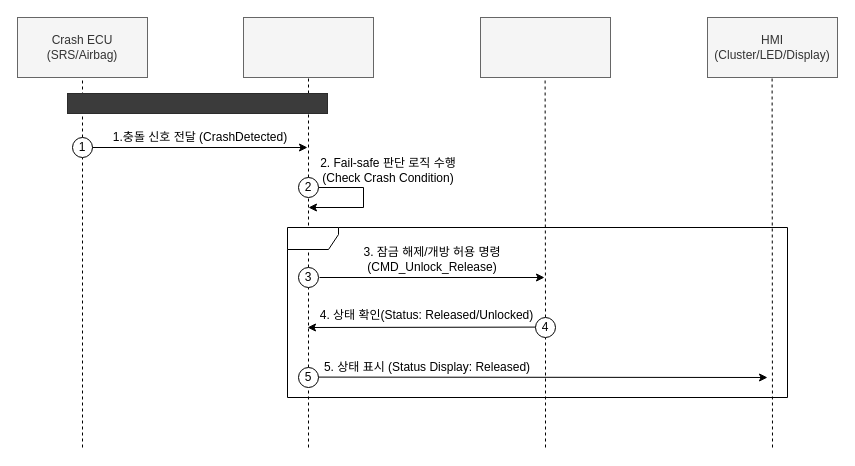
The diagram is 855 pixels wide and 466 high, and some of its shapes have lost their labels. Each missing label, with the centre of its shape:
[사전 조건] 충돌 발생(Crash Signal Active): (x=197, y=103)
ECU(제어기): (x=308, y=47)
opt: (x=537, y=312)
도어 액추어터 (Door_Latch): (x=545, y=47)
